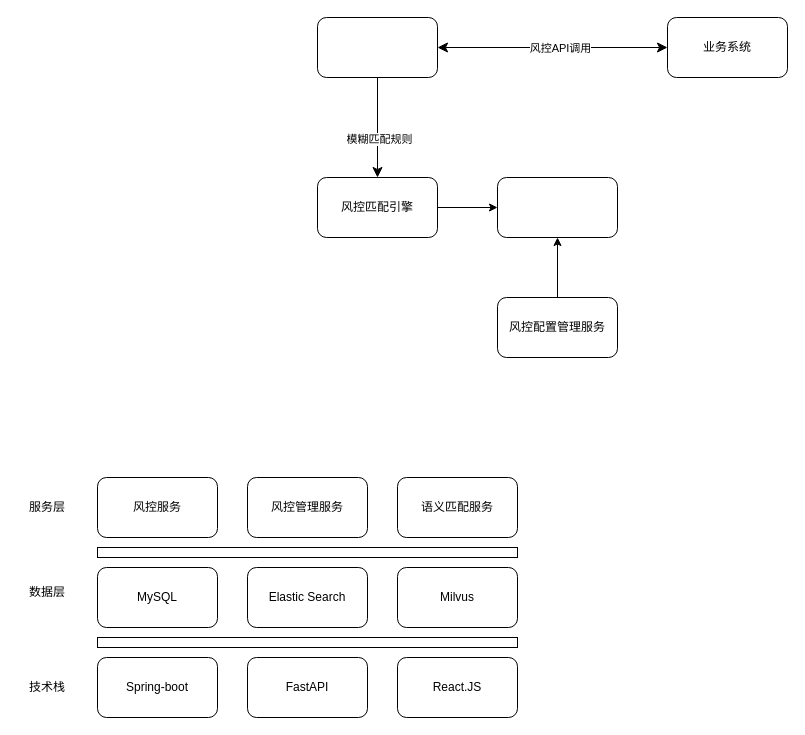
The diagram is 805 pixels wide and 735 high, and some of its shapes have lost their labels. Each missing label, with the centre of its shape:
风控场景数据库: the point at 557,207
风控执行引擎: the point at 377,47
